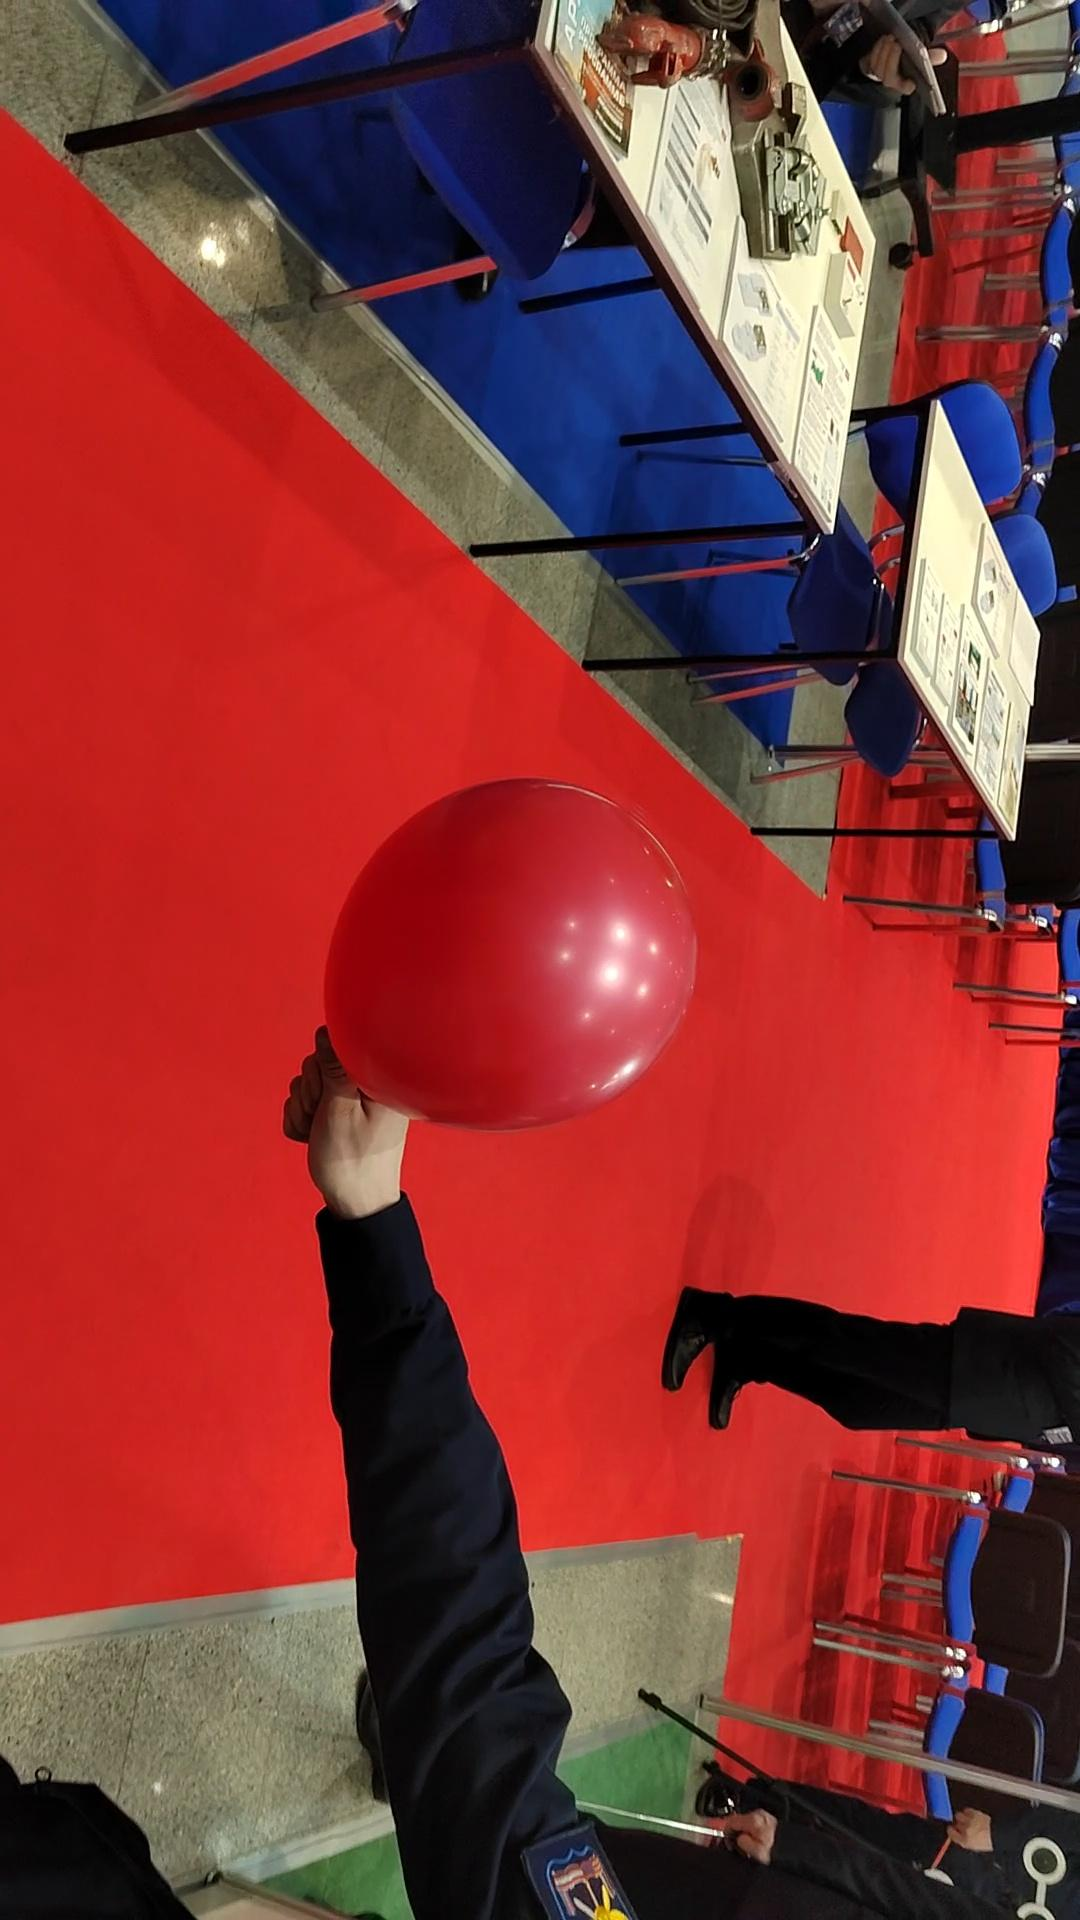red: (299, 754, 704, 1139)
